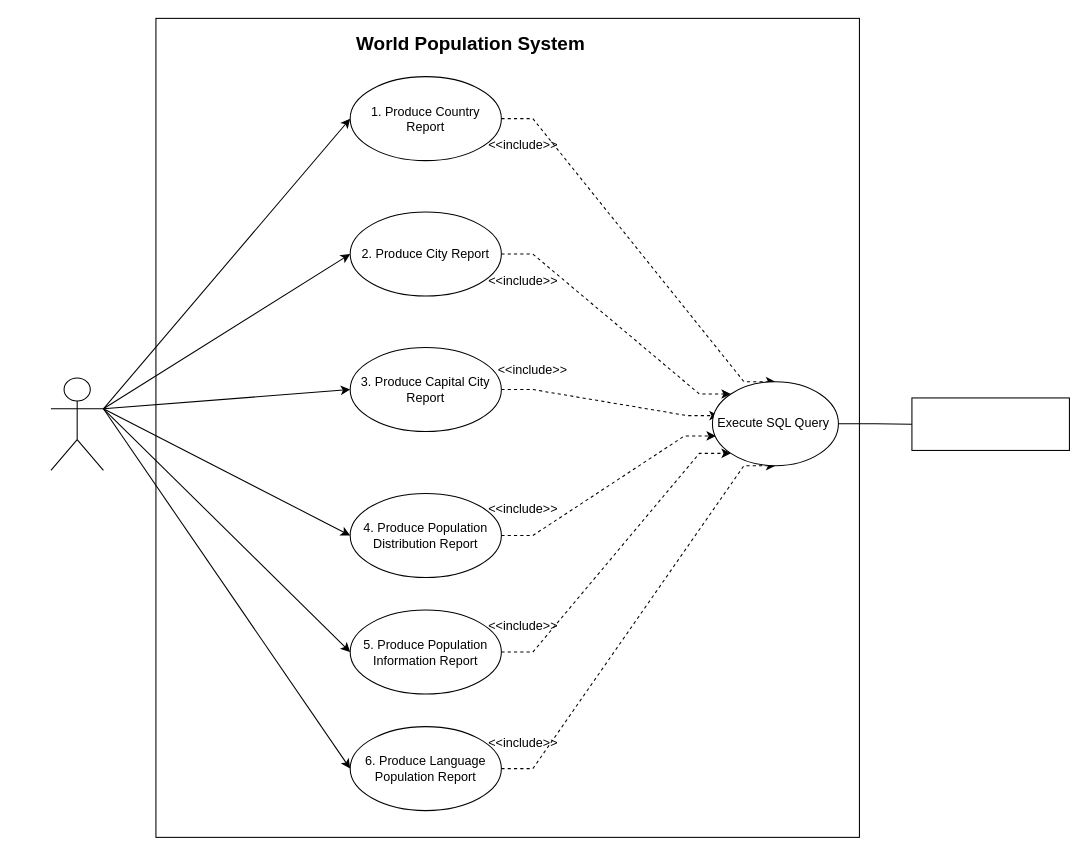
This 1088x856 diagram has some shape labels left out. Each missing label, with the centre of its shape:
"Demographic Analyst" belongs at [76,423].
"World MySQL Database" belongs at [990,423].
